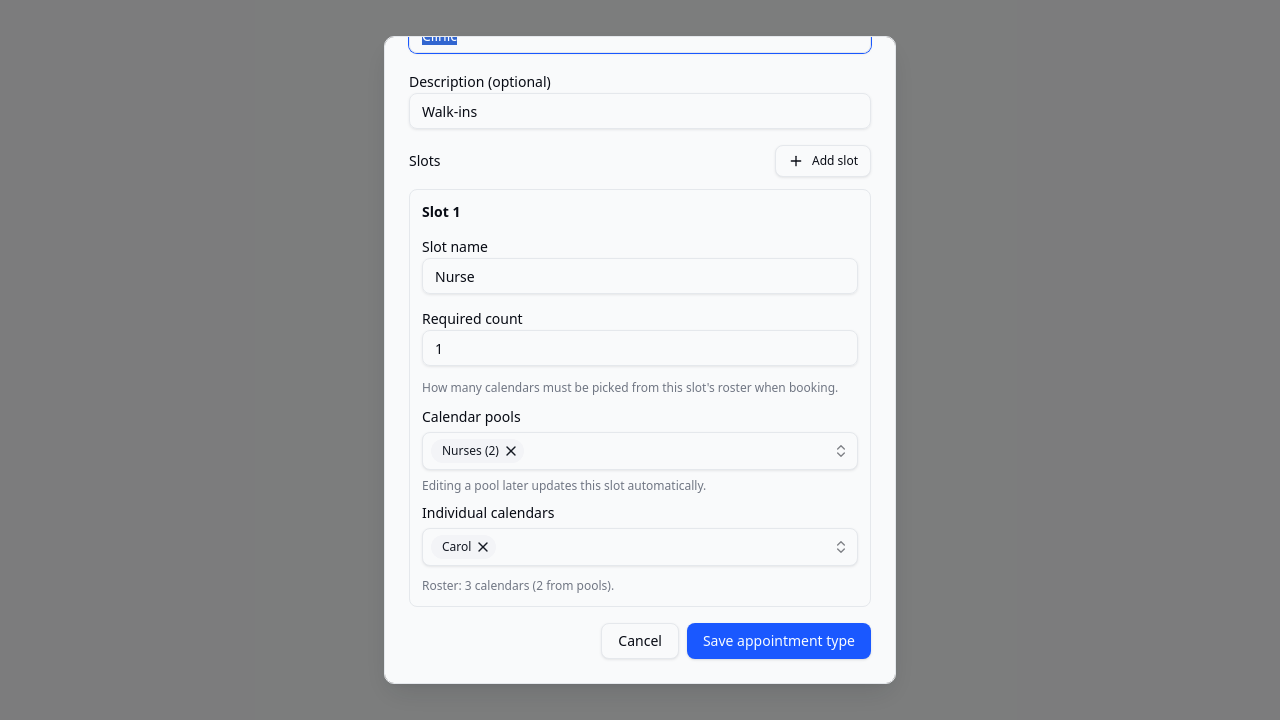
Test: AppointmentTypeFormDialog (edit mode) › surfaces a slot-removal rejection on the form
(page scrolled)
Expected: the element with test id "slot-editor-0" is shown, [409,189,871,607]
Click the button with test id "edit-appointment-type-submit" at (779, 641), box [687,623,871,659]
(page scrolled)
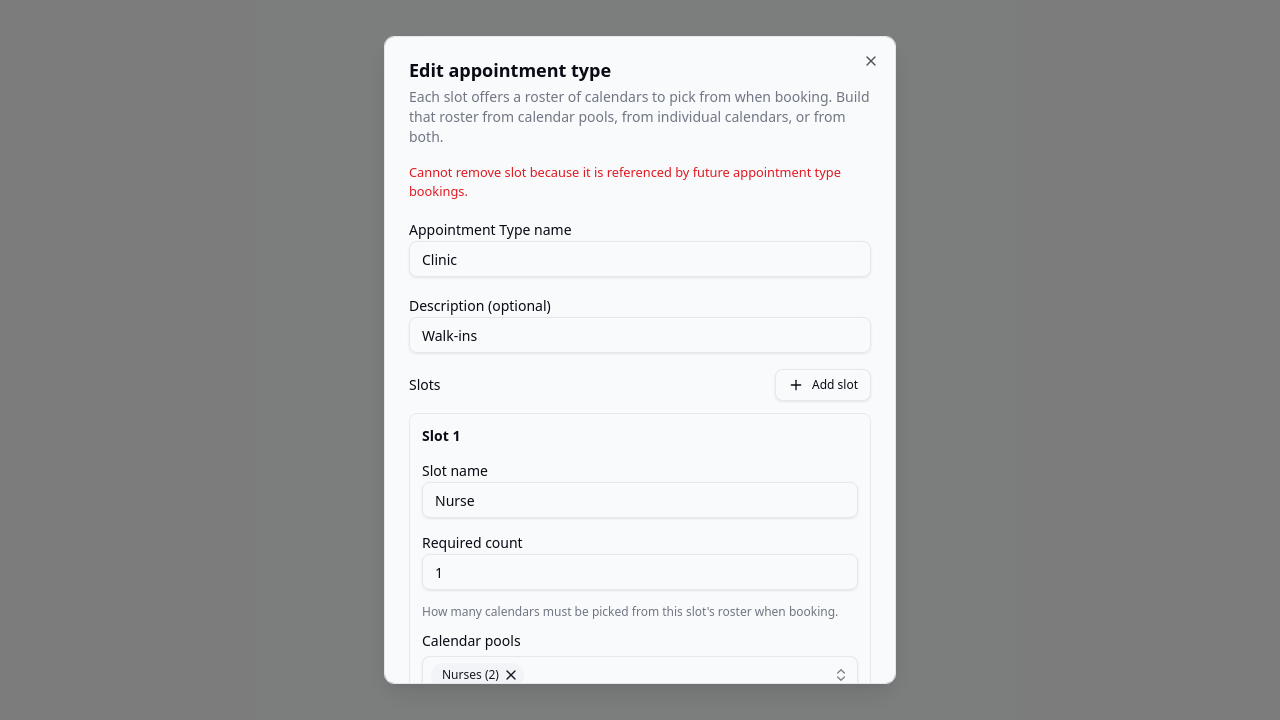
Result: the text "Cannot remove slot because it is referenced by future appointment type bookings." is shown at [409,163,871,201]
